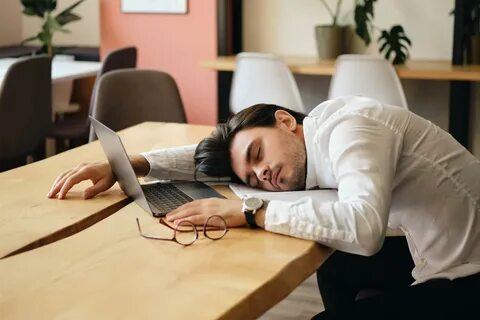sleep: (154, 95, 476, 237)
